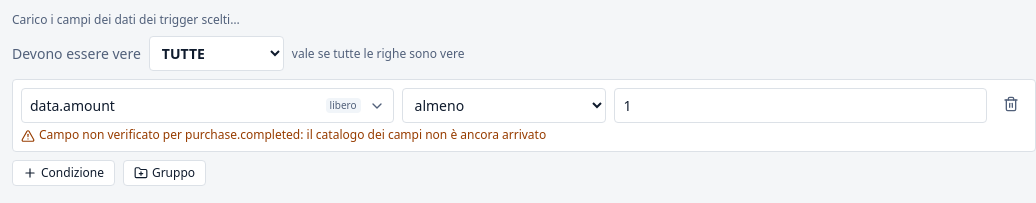
Test: ConditionBuilder › modifica il valore mantenendo i numeri come numeri
Replace the text in the field named "Valore della condizione 1" with "50" at (801, 106), box [614, 88, 987, 123]
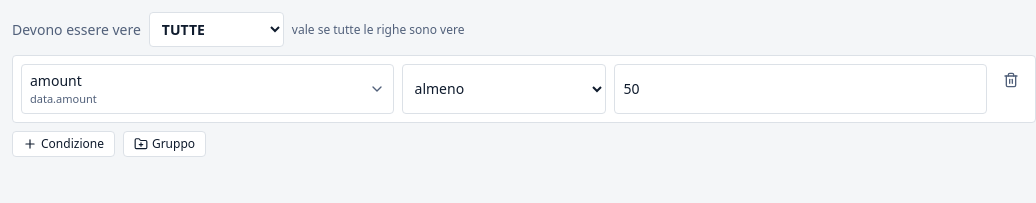
Select "tra" in the dropdown named "Operatore della condizione 1" at (504, 89), box [402, 64, 606, 114]
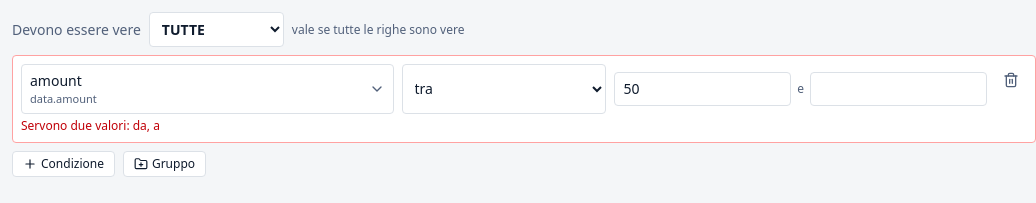
Expected: the text "Servono due valori: da, a" is shown, [21, 117, 160, 134]
